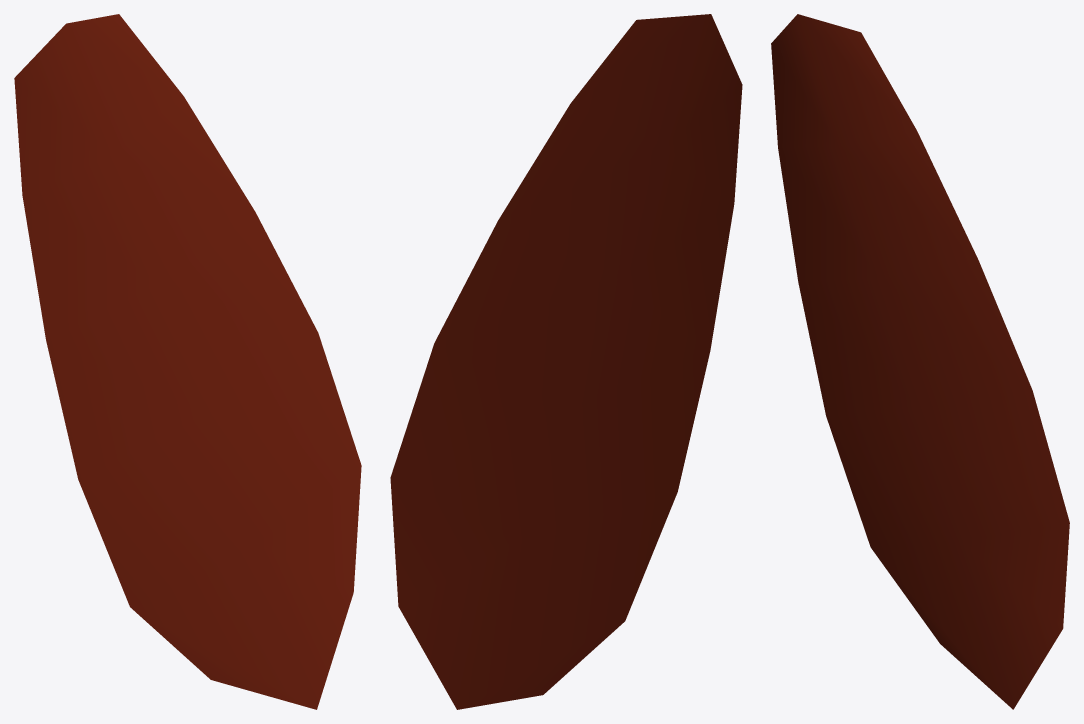
File: pheasant_feather_flight_tertiary_030.obj
3 views of the same model, side by side, from view 1: azimuth 30°, elevation 25°; view 2: azimuth 150°, elevation 25°; view 3: azimuth 330°, elevation 25° (orthographic). The views are drawn at different scales.
Parts seen in each view (by area): view 1: feather_flight_tertiary_030; view 2: feather_flight_tertiary_030; view 3: feather_flight_tertiary_030.
Boxes of the visible parts, x1,y1,x2,y2 form: feather_flight_tertiary_030: [14, 14, 361, 709]; feather_flight_tertiary_030: [390, 14, 742, 709]; feather_flight_tertiary_030: [771, 14, 1069, 709].
Size of the model in its own units: 0.0121 by 0.0249 by 0.000634.
